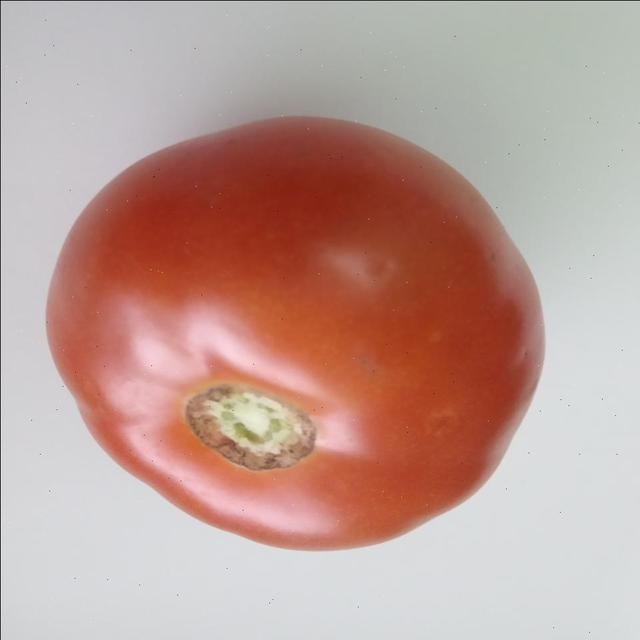Healthy Fruit: (23, 74, 370, 376)
